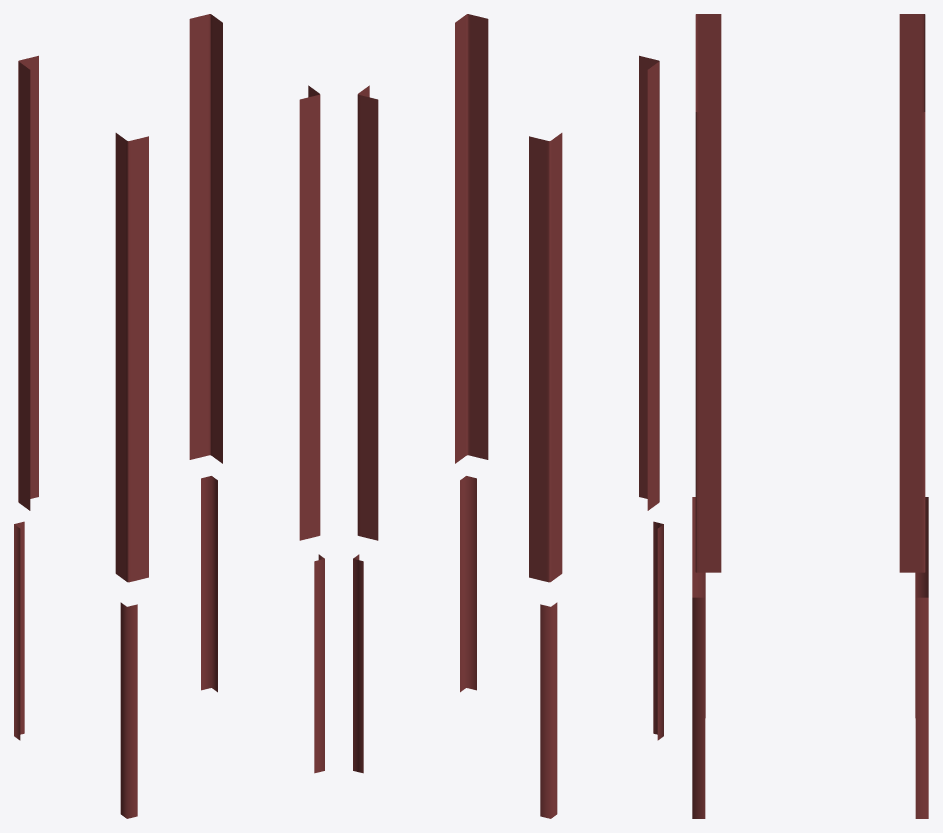
File: Decal_wallIn_A_column_medium.FBX
3 renders of one model, left to right at view 1: azimuth 30°, elevation 25°; view 2: azimuth 150°, elevation 25°; view 3: azimuth 270°, elevation 25°, orthographic. The views are drawn at different scales.
Visible parts, largest first — view 1: Decal_wallIn_A_column_medium; view 2: Decal_wallIn_A_column_medium; view 3: Decal_wallIn_A_column_medium.
Boxes of the visible parts, <box> form: Decal_wallIn_A_column_medium: <box>14,14,324,818</box>; Decal_wallIn_A_column_medium: <box>353,14,663,818</box>; Decal_wallIn_A_column_medium: <box>692,14,928,818</box>.
Bounding box in the file's own units: 77.41 × 253 × 76.83.
